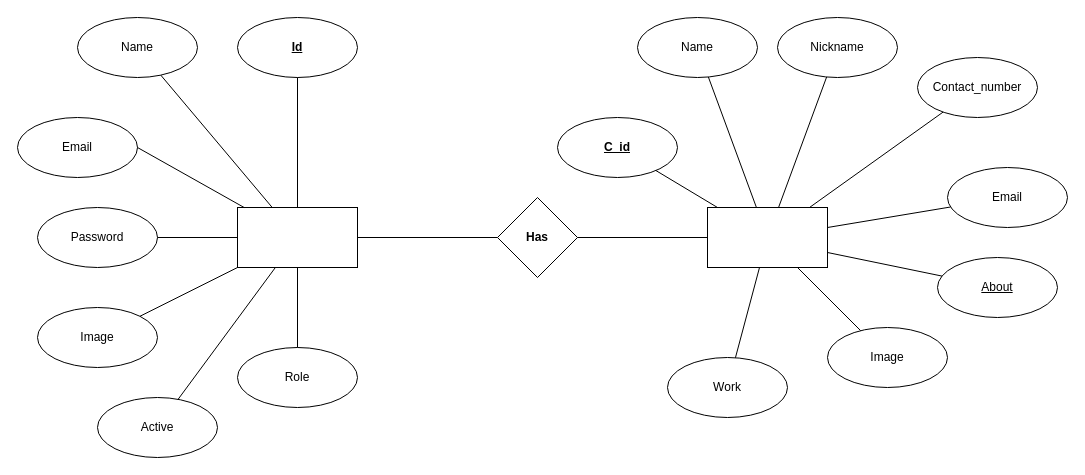
Some shapes in this 1085 by 475 pixel diagram are drawn without their labels. Each missing label, with the centre of its shape:
Contacts: the point at 767,237
User: the point at 297,237
